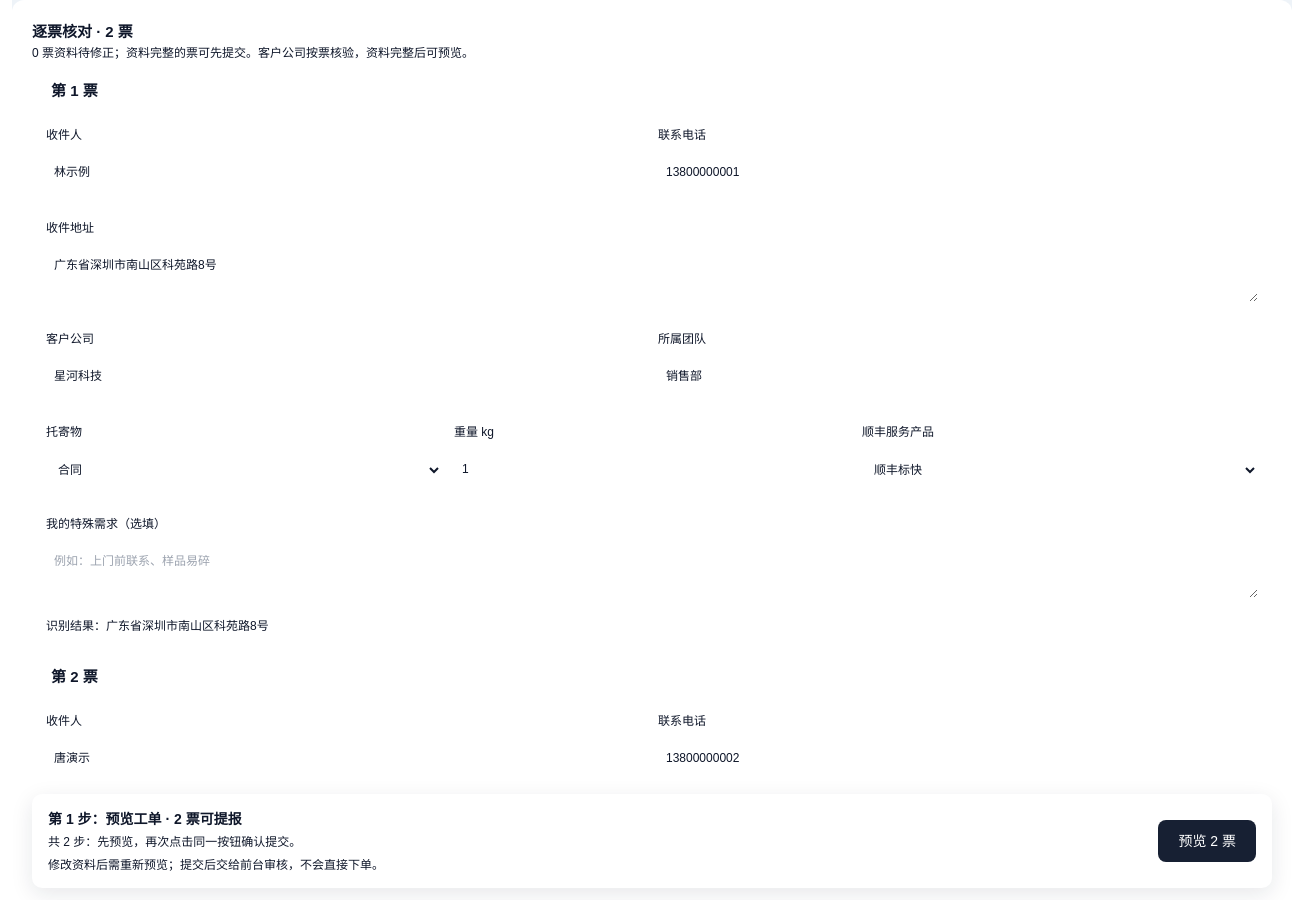
Test: invalidates preview after a ticket edit without changing another ticket
The image size is (1292, 900).
Click the button "预览 2 票": (1207,841) [1158,820,1256,862]
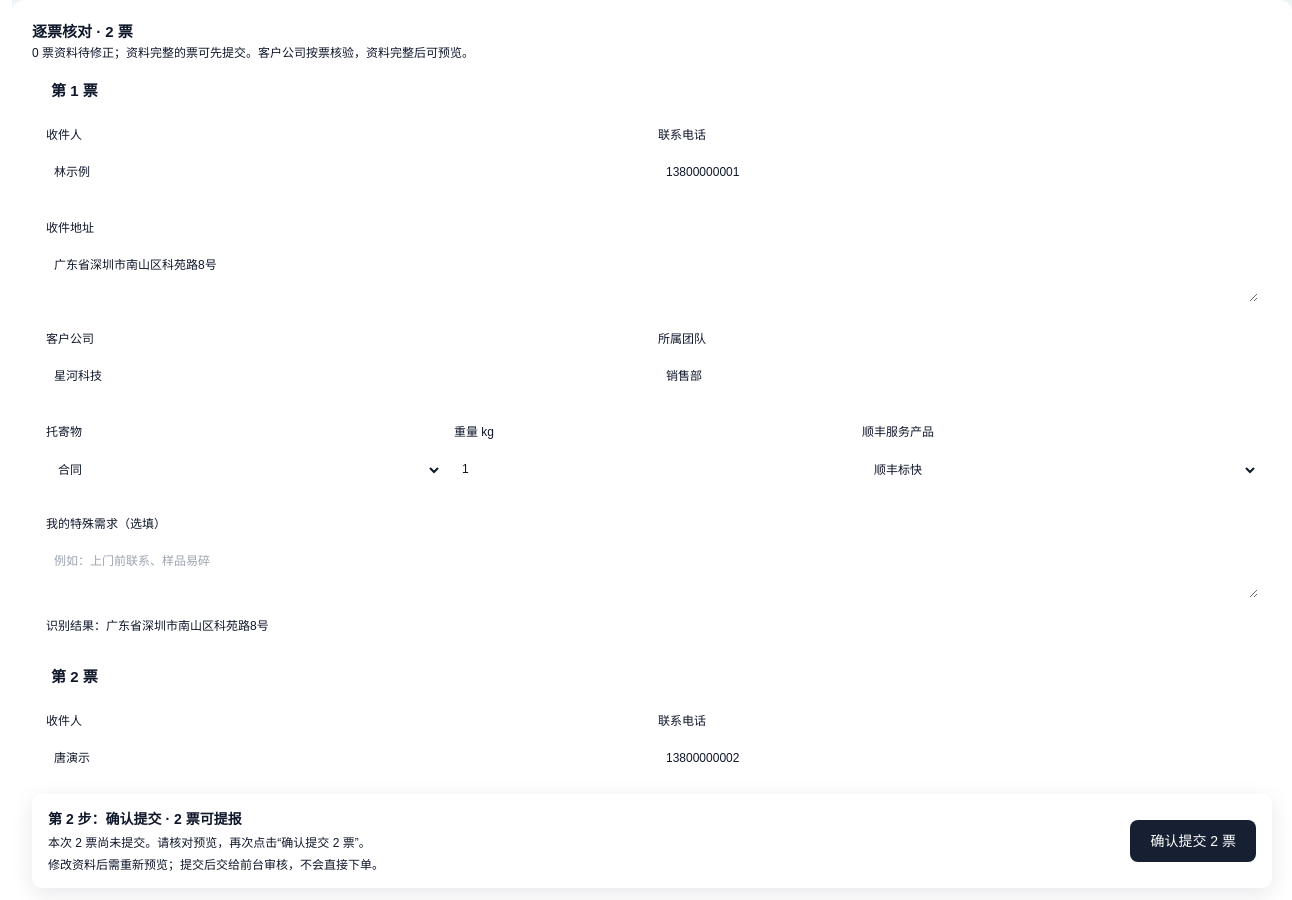
Check: the button "确认提交 2 票" is enabled, box [1130,820,1256,862]
Select "样品" in the dropdown named "第1票托寄物": (244,470) [46,453,442,487]
(page scrolled)
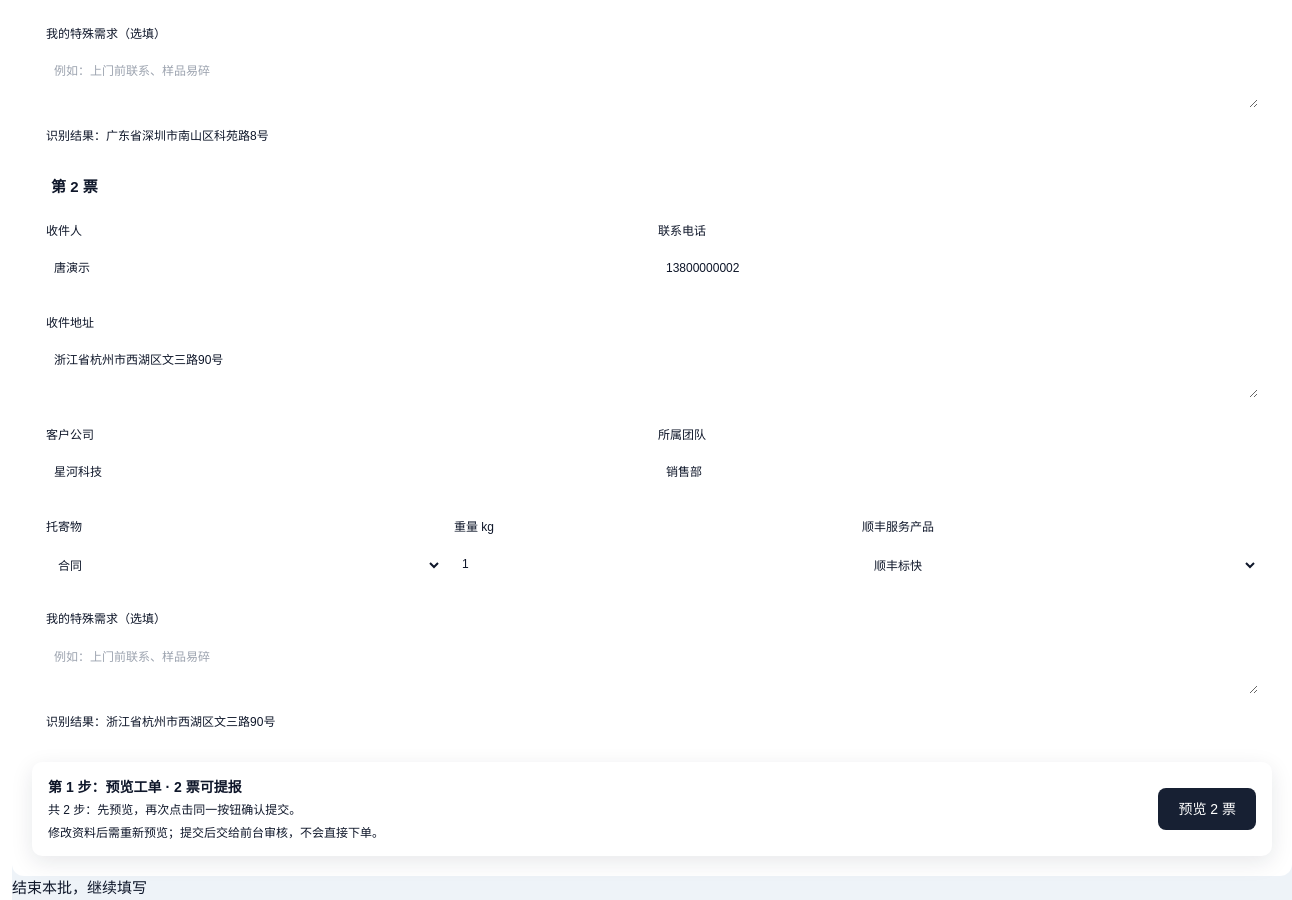
Check: the button "预览 2 票" is enabled, box [1158,788,1256,830]
Check: the message "确认提交 2 票" is gone
